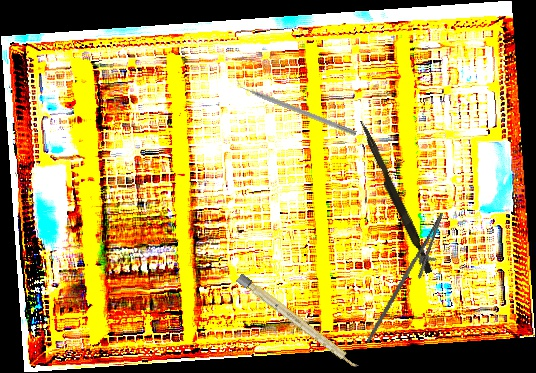Chopper: (233, 75, 360, 137)
Needle Holder: (365, 205, 455, 355)
Pusher: (353, 119, 437, 275)
Scalpel Handle: (235, 273, 362, 371)
